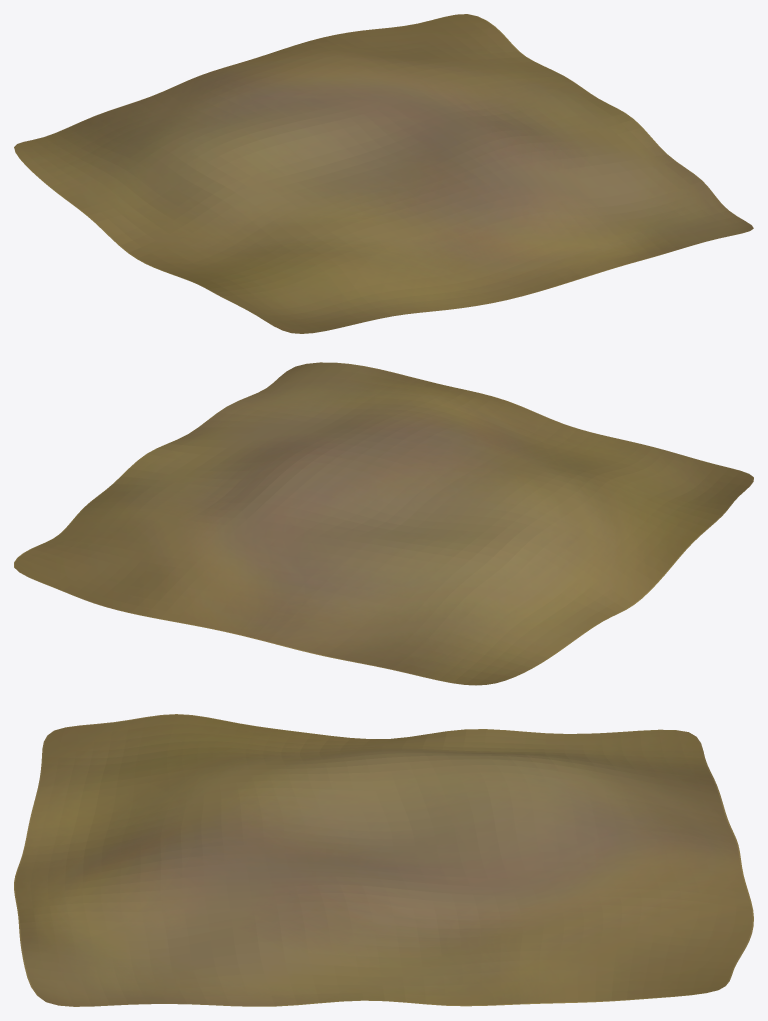
The model's file is emptyMap.fbx.
3 views of the same model, one above another, from view 1: azimuth 30°, elevation 25°; view 2: azimuth 150°, elevation 25°; view 3: azimuth 270°, elevation 25° (orthographic). The views are drawn at different scales.
Visible parts, largest first — view 1: Plane; view 2: Plane; view 3: Plane.
Part boxes in pixels (x1,y1,x2,y2): Plane: (14, 14, 753, 333); Plane: (14, 362, 753, 685); Plane: (14, 714, 753, 1006).
Size of what is drawn, in the model's own units: 2172 by 182 by 2357.
